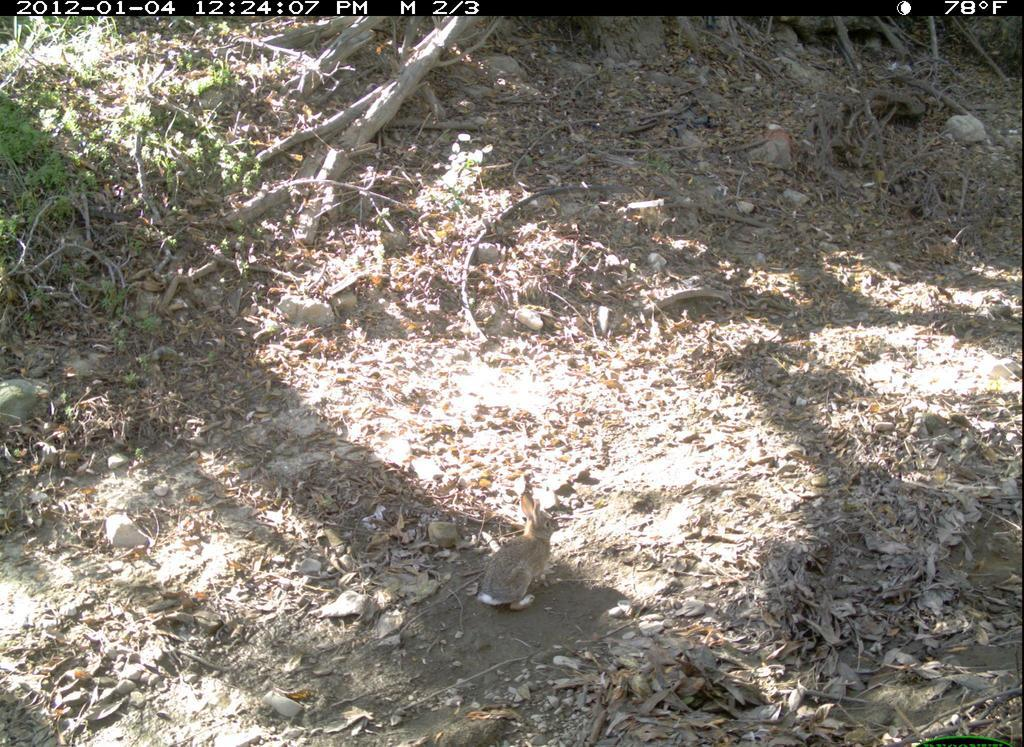rabbit: (483, 483, 569, 625)
